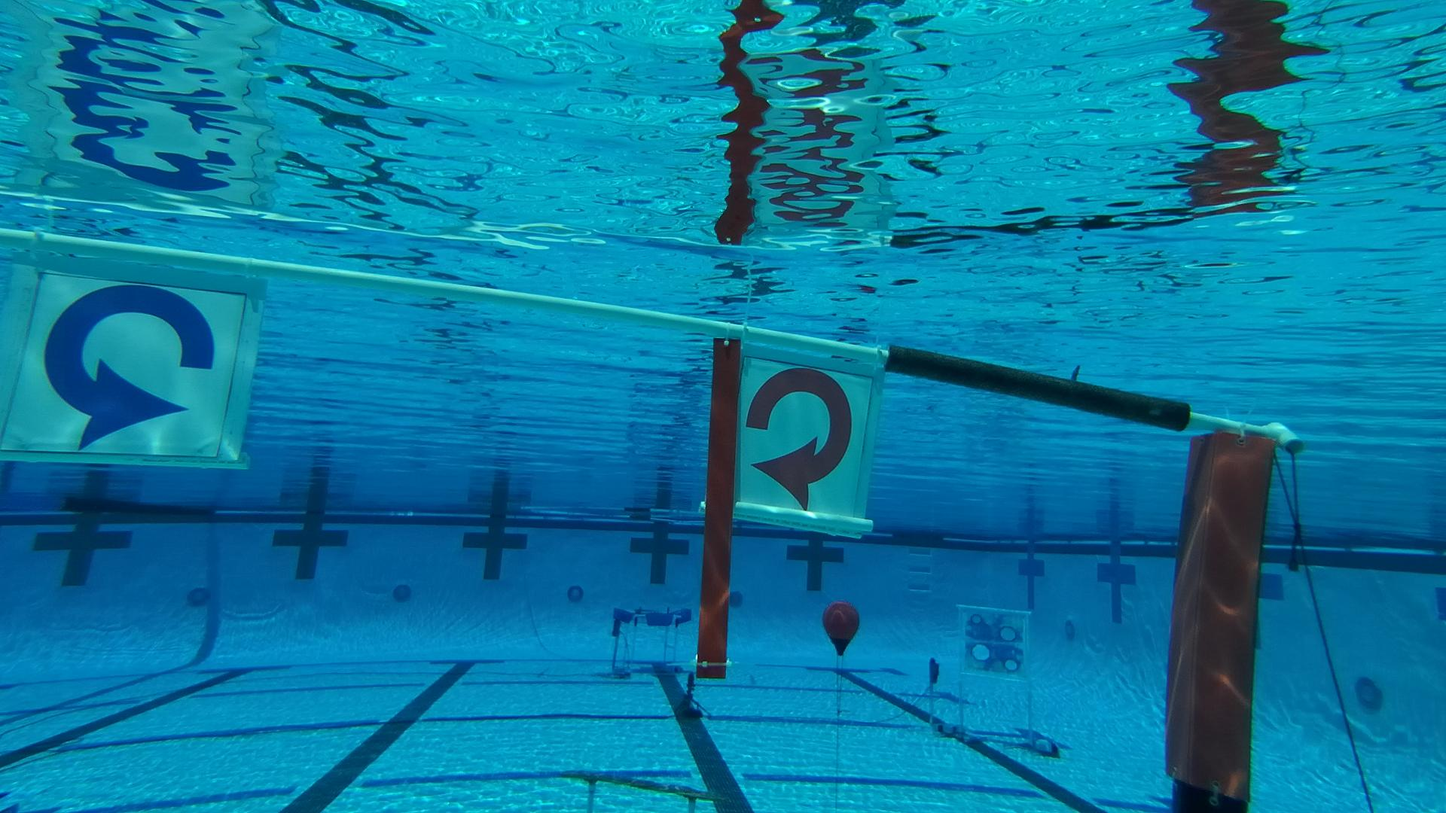blue-gate-sign: (18, 241, 249, 457)
buoy: (822, 598, 859, 656)
coral-box-side: (609, 600, 687, 671)
path: (570, 765, 722, 801)
red octagon: (970, 642, 993, 662), (997, 624, 1020, 643), (966, 610, 986, 630), (1002, 656, 1021, 673)
red-gate-sign: (747, 345, 868, 526)
